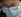with_mask: (2, 1, 21, 17)
